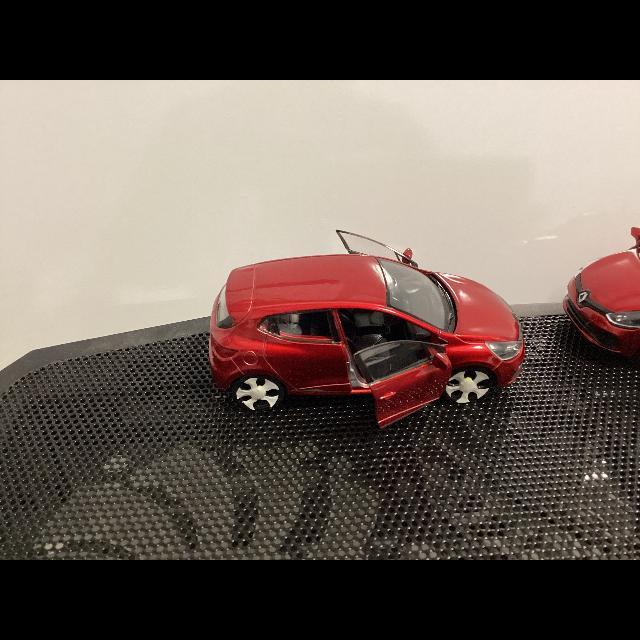Yanlis_Jant: (236, 377, 280, 411), (446, 371, 490, 404)
